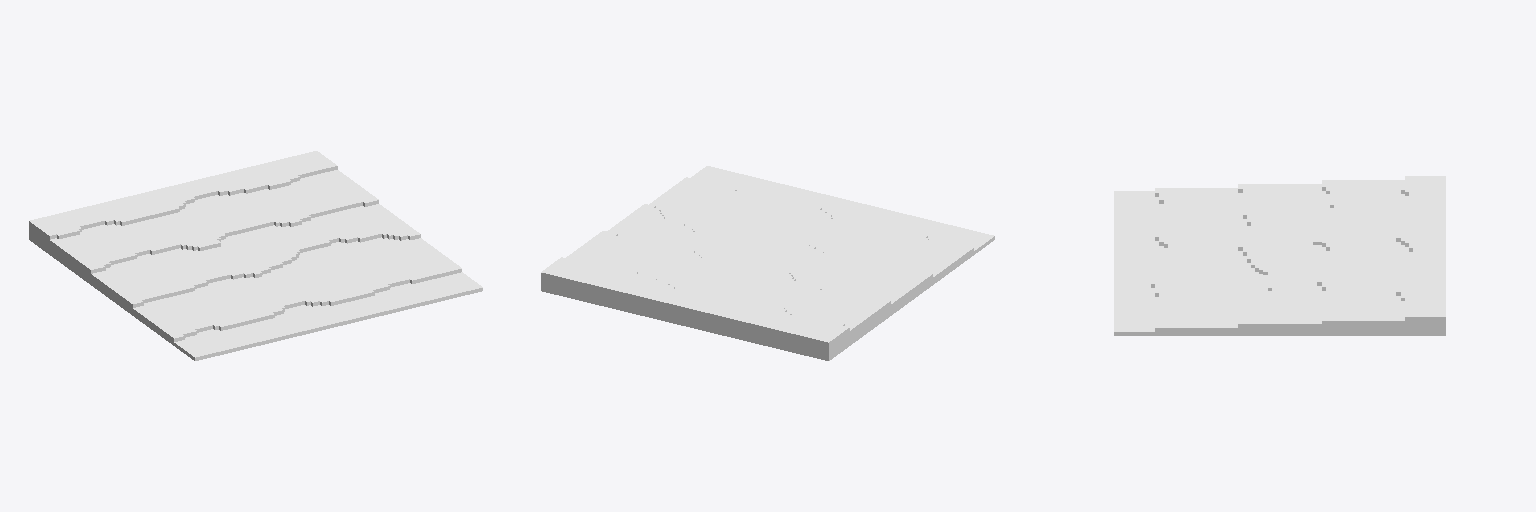
File: 4StepSlope1.obj
3 views of the same model, side by side, from view 1: azimuth 30°, elevation 25°; view 2: azimuth 150°, elevation 25°; view 3: azimuth 270°, elevation 25° (orthographic).
Visible parts, largest first — view 1: 4StepSlope1; view 2: 4StepSlope1; view 3: 4StepSlope1.
Boxes of the visible parts, box(x1,y1,x2,y2) form: 4StepSlope1: box(29, 151, 482, 360); 4StepSlope1: box(541, 166, 994, 360); 4StepSlope1: box(1114, 176, 1445, 335).
Bounding box in the file's own units: 80 × 5 × 80.